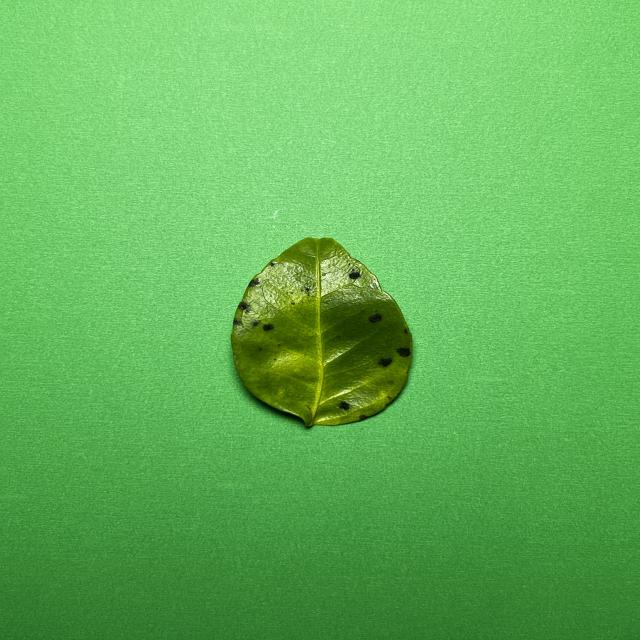sooty_mold: (232, 238, 413, 426)
